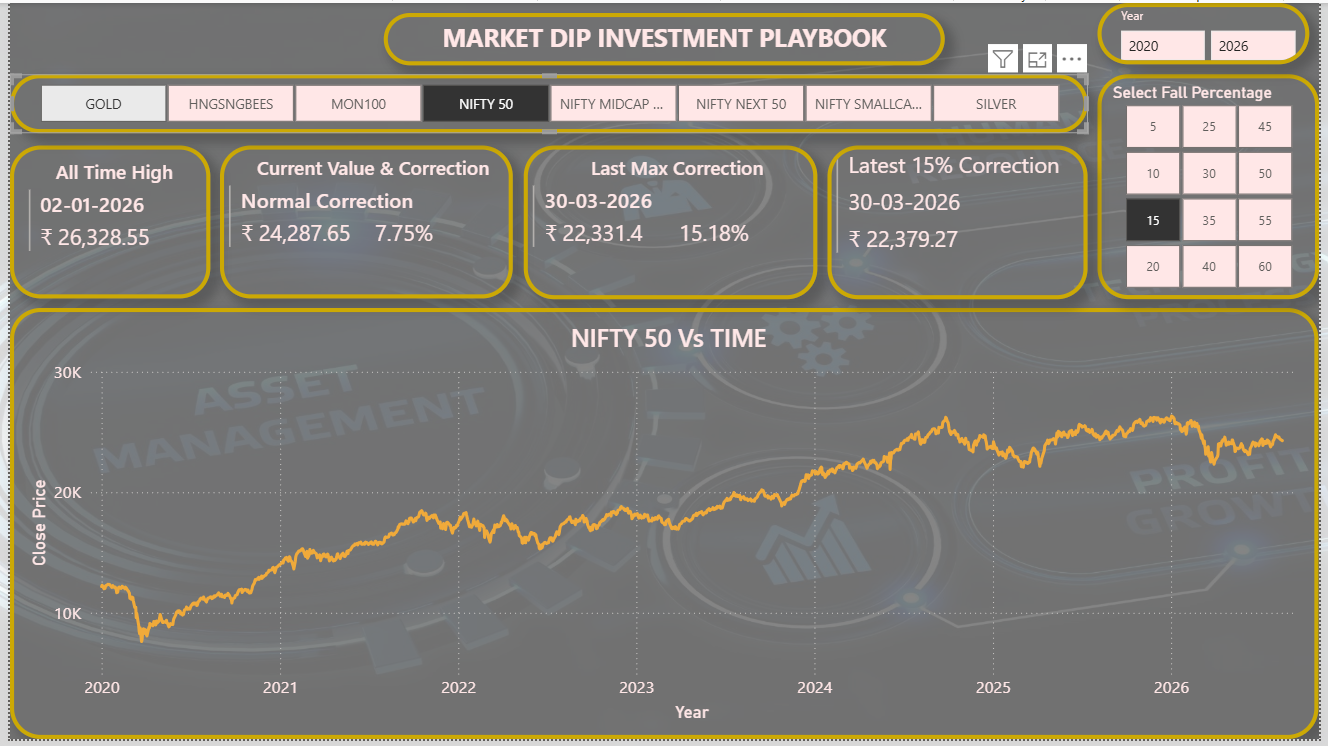

Layout of this report page (visuals, bound fields, positions):
{"tool":"powerbi","page":{"name":"Dashboard","canvas":[1280,720],"ordinal":0},"visuals":[{"type":"slicer","fields":{"Values":["Commodities.Asset Class"]},"box":[0,69.7,1054.1,57.5],"z":0},{"type":"multiRowCard","title":"All Time High","fields":{"Values":["Combine Data.Dt ATH","Combine Data.ATH"]},"box":[0,140,196.2,149.6],"z":1000},{"type":"multiRowCard","title":"Current Value & Correction","fields":{"Values":["Combine Data.Current Value","Combine Data.Current Correction","Combine Data.Play Book"]},"box":[205.8,140,286.8,149.6],"z":2000},{"type":"multiRowCard","title":"Last Max Correction","fields":{"Values":["Combine Data.dt max correction","Combine Data.Max correction","Combine Data.Max correction(%)"]},"box":[502.4,139.4,287.4,150.4],"z":3000},{"type":"lineChart","fields":{"Category":["Combine Data.DATE.Variation.Date Hierarchy.Year","Combine Data.DATE.Variation.Date Hierarchy.Quarter","Combine Data.DATE.Variation.Date Hierarchy.Month","Combine Data.DATE.Variation.Date Hierarchy.Day"],"Y":["Sum(Combine Data.ADJ. PRICE)"]},"box":[0,298.4,1280.3,421.9],"z":4000},{"type":"slicer","fields":{"Values":["Fall Percentage.Fall Percentage"]},"box":[1063.9,69.7,216.4,220.1],"z":5000},{"type":"multiRowCard","title":"Latest Correction","fields":{"Values":["Fall Percentage.Header","Combine Data.Date of Fall","Combine Data.Fall Value"]},"box":[799.5,139.4,254.3,150.4],"z":6000},{"type":"textbox","box":[365.5,9.8,549.1,51.4],"z":7000},{"type":"slicer","fields":{"Values":["Combine Data.DATE.Variation.Date Hierarchy.Year"]},"box":[1063.5,0,207.2,60.4],"z":8000}]}

Visuals, with their boxes in screenshot pixels (x1, y1, x2, y2), scaled from the page's 1280x720 canvas onto the 1328x746 screenshot:
slicer - Commodities.Asset Class: <region>0, 72, 1094, 132</region>
"All Time High" multiRowCard: <region>0, 145, 204, 300</region>
"Current Value & Correction" multiRowCard: <region>214, 145, 511, 300</region>
"Last Max Correction" multiRowCard: <region>521, 144, 819, 300</region>
lineChart - Combine Data.DATE.Variation.Date Hierarchy.Year x Combine Data.DATE.Variation.Date Hierarchy.Quarter: <region>0, 309, 1327, 745</region>
slicer - Fall Percentage.Fall Percentage: <region>1104, 72, 1327, 300</region>
"Latest Correction" multiRowCard: <region>829, 144, 1093, 300</region>
textbox: <region>379, 10, 949, 63</region>
slicer - Combine Data.DATE.Variation.Date Hierarchy.Year: <region>1103, 0, 1318, 63</region>
